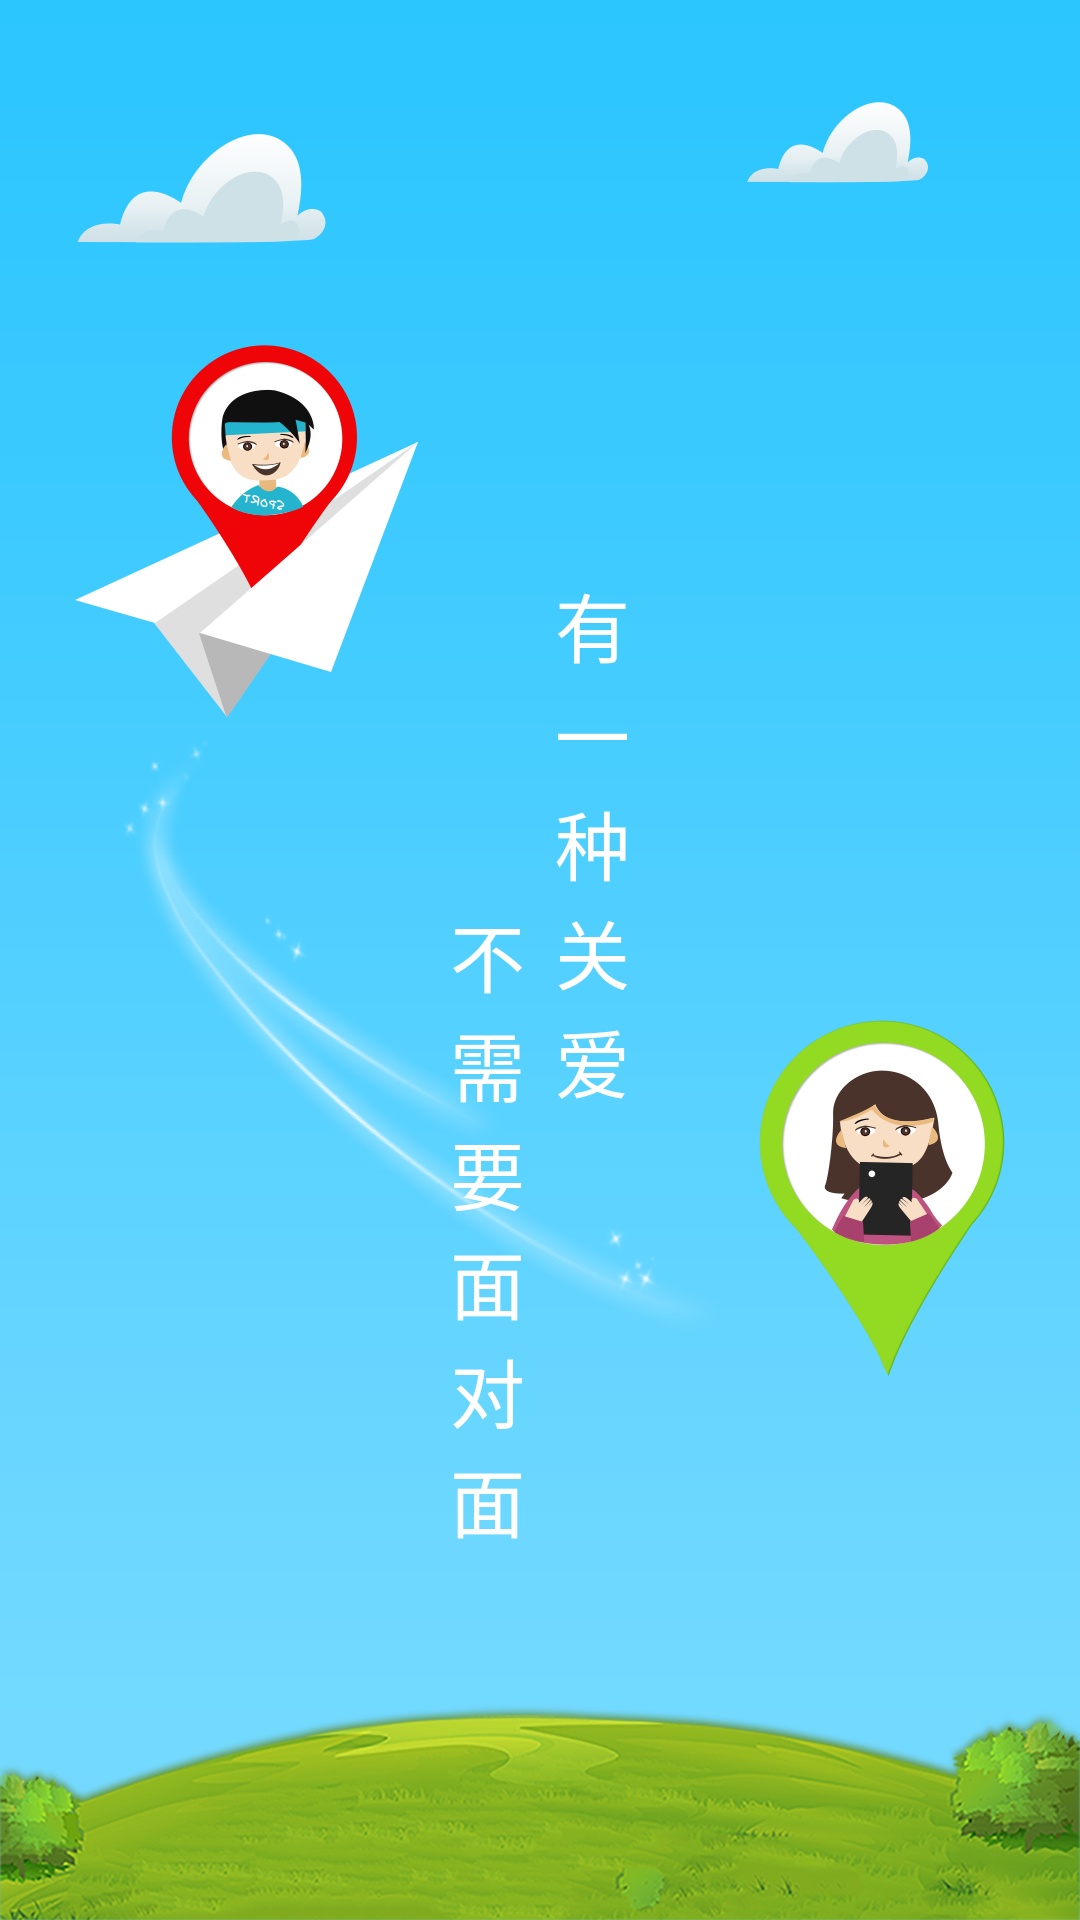

Locate icon controls on the screen. Image size 1080x1920, boxes as (x1, y1, x2, y2).
location mom: (759, 1020, 1005, 1376)
